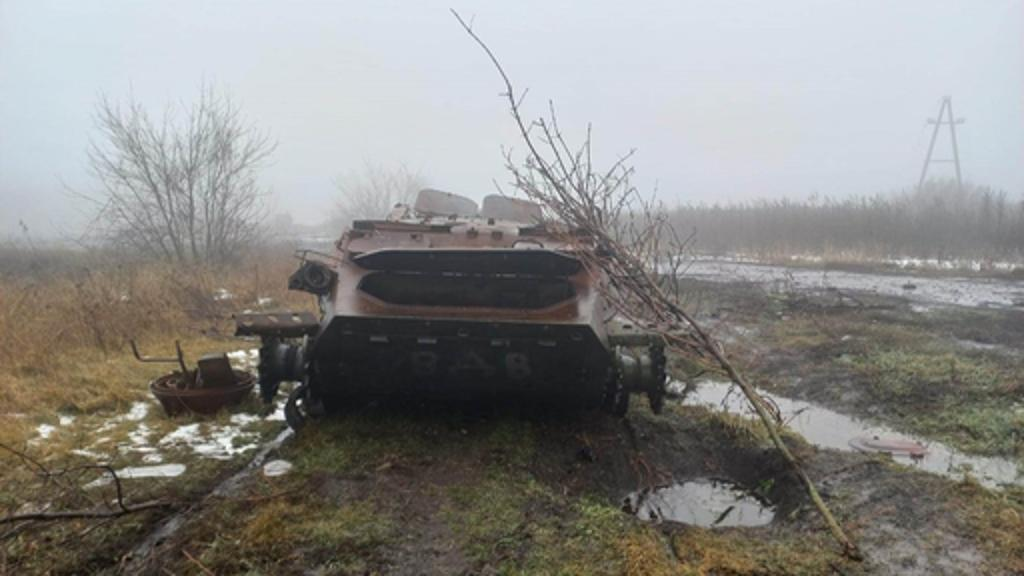APC-IFV: (246, 184, 674, 424)
